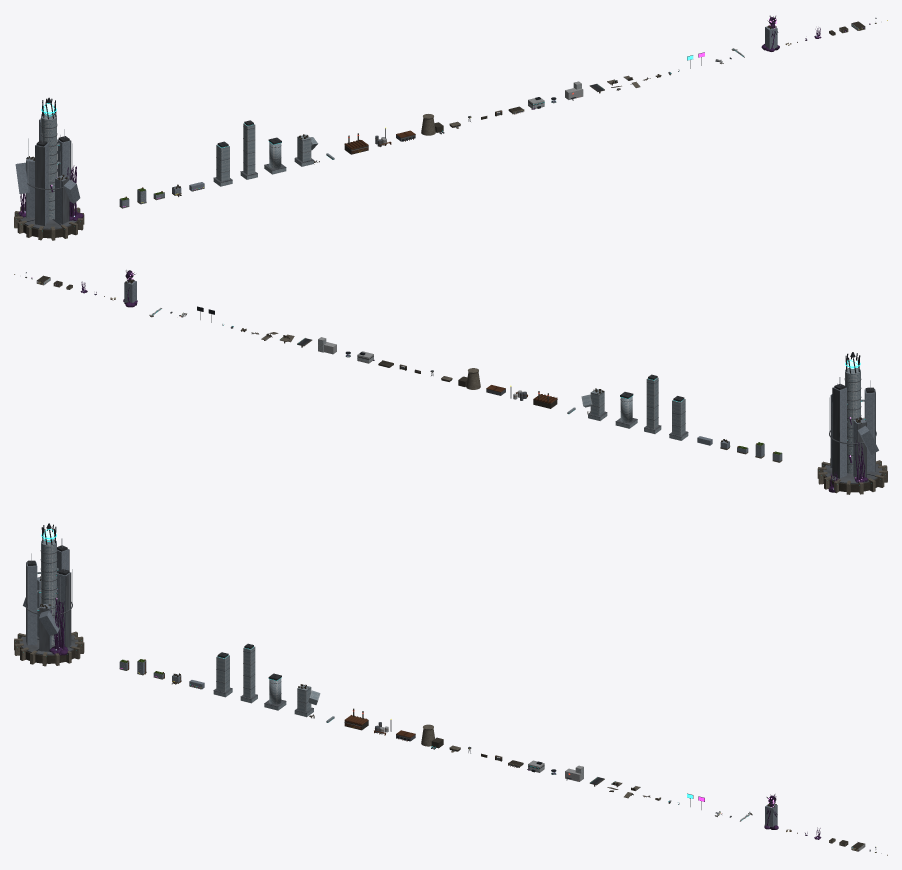
The model's file is vanthos.glb.
The picture shows the model from 3 angles, top to bottom: view 1: azimuth 30°, elevation 25°; view 2: azimuth 150°, elevation 25°; view 3: azimuth 330°, elevation 25°; orthographic projection.
Visible parts, largest first — view 1: VX_spire_mesh, VX_com_b_mesh, VX_com_a_mesh, VX_com_ruin_mesh, VX_com_c_mesh; view 2: VX_spire_mesh, VX_com_b_mesh, VX_com_a_mesh, VX_com_ruin_mesh, VX_com_c_mesh; view 3: VX_spire_mesh, VX_com_b_mesh.
Boxes of the visible parts, x1,y1,x2,y2 form: VX_spire_mesh: (14,97,84,240); VX_com_b_mesh: (240,120,257,179); VX_com_a_mesh: (213,141,232,186); VX_com_ruin_mesh: (294,134,319,166); VX_com_c_mesh: (264,137,286,174); VX_spire_mesh: (817,352,887,494); VX_com_b_mesh: (644,374,661,433); VX_com_a_mesh: (669,396,688,440); VX_com_ruin_mesh: (581,388,607,420); VX_com_c_mesh: (615,392,637,428); VX_spire_mesh: (14,523,84,666); VX_com_b_mesh: (240,643,257,703).
Bounding box in the file's own units: 2997 × 423 × 217.
Materials: 34 (10 with a texture image).
